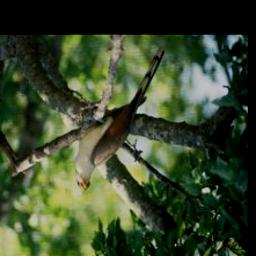Cuckoo: (72, 45, 167, 196)
